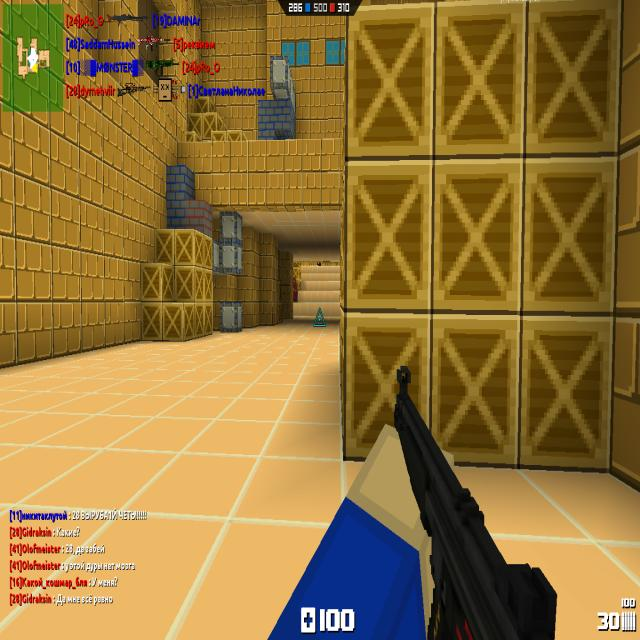enemy: (293, 276, 298, 301)
